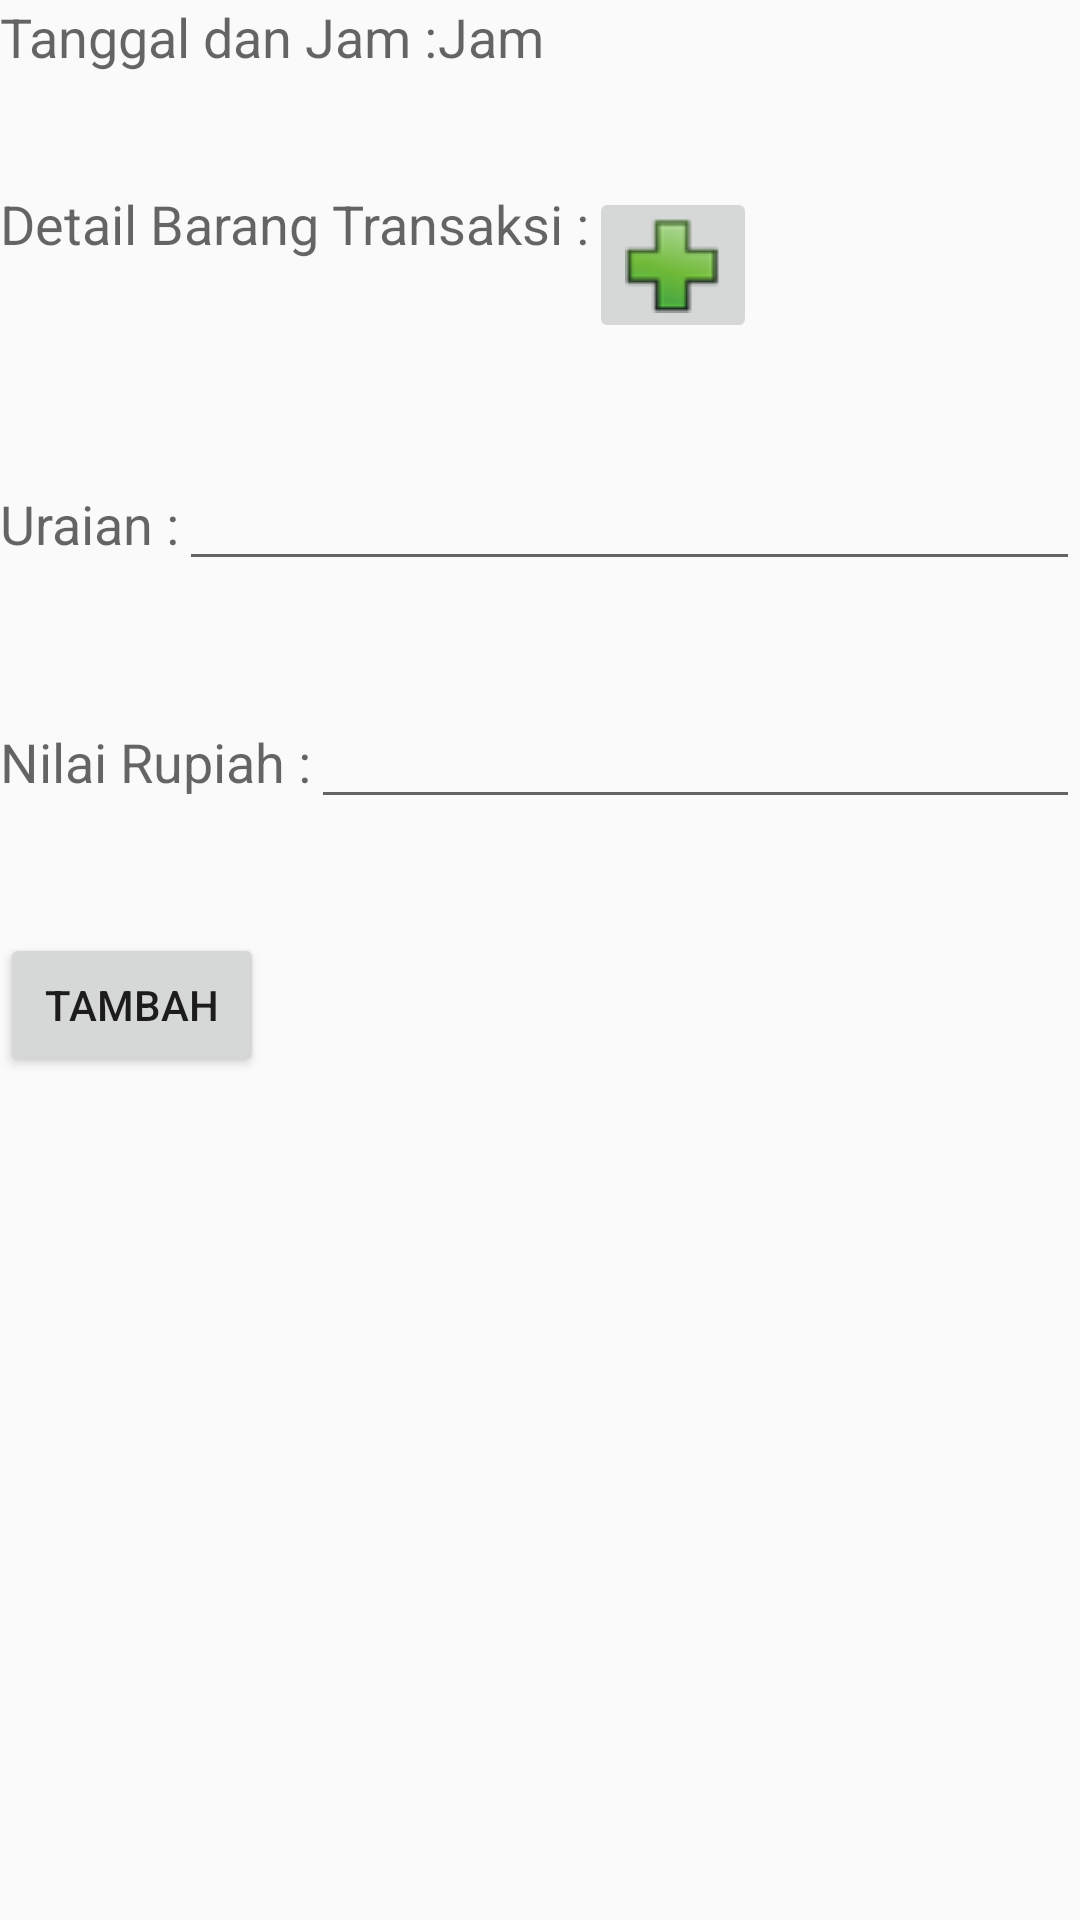

Icons on this 1080×1920 Android screen, each with the point to tap as point (x, y):
plus: point (673, 265)
